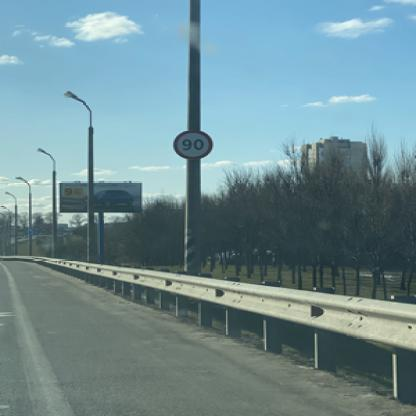speedlimit: (170, 129, 210, 159)
